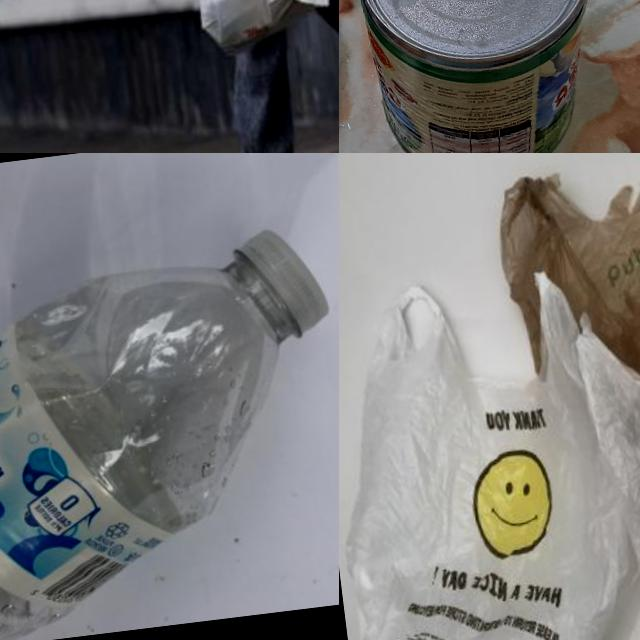garrafa plástica: (0, 250, 311, 640)
lata: (343, 0, 615, 153)
sacola plástica: (339, 271, 636, 640), (465, 153, 640, 404), (564, 195, 640, 640), (139, 0, 339, 58)
tampa plástica: (230, 218, 332, 346)
